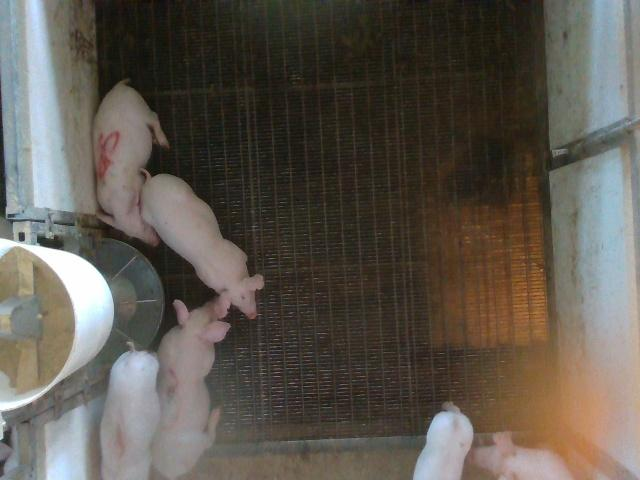pig-1: (100, 335, 161, 479)
pig-3: (151, 300, 230, 478)
pig-5: (94, 80, 169, 246)
